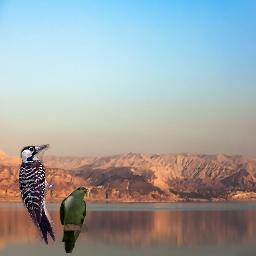Cuckoo: (59, 186, 88, 253)
Woodpecker: (19, 144, 55, 245)
